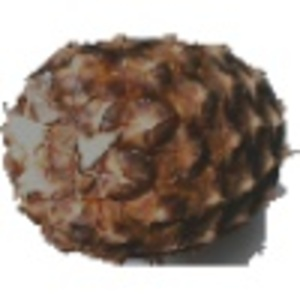abacaxi: (3, 29, 290, 257)
